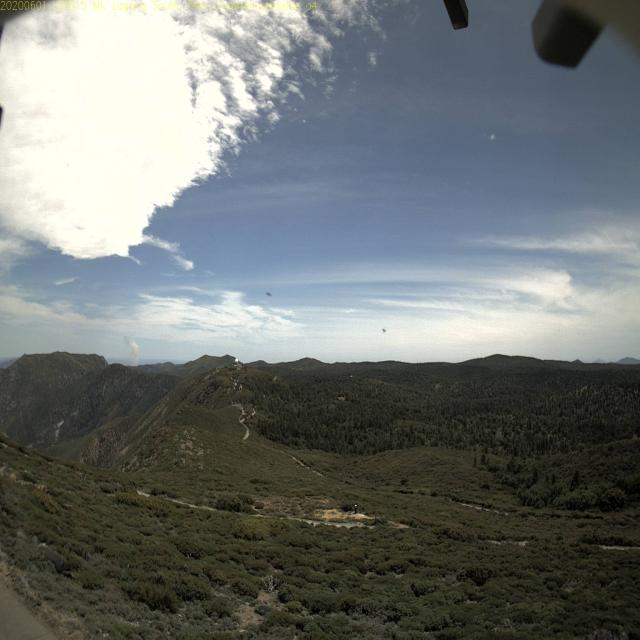smoke: (120, 333, 142, 369)
